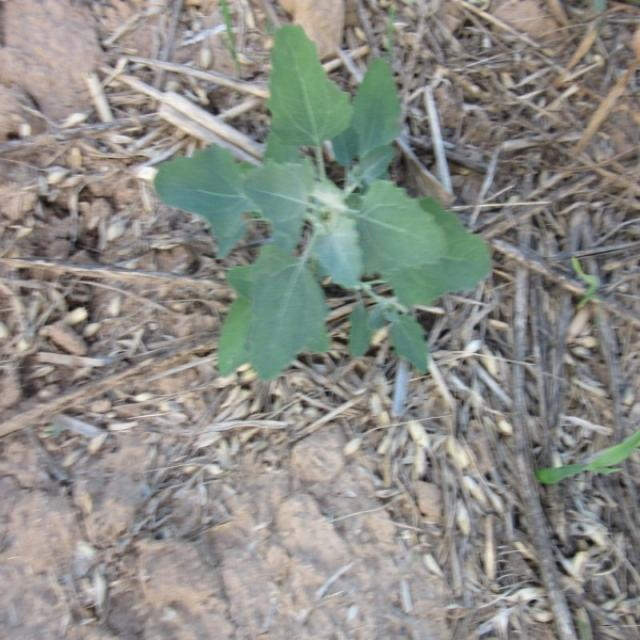ca: (154, 24, 489, 382)
